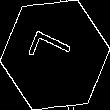L_SE: (28, 31, 82, 79)
